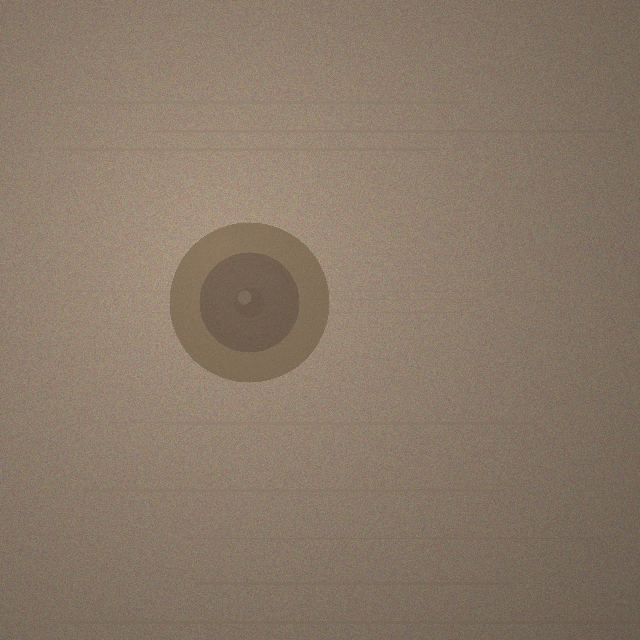good: (169, 222, 329, 382)
